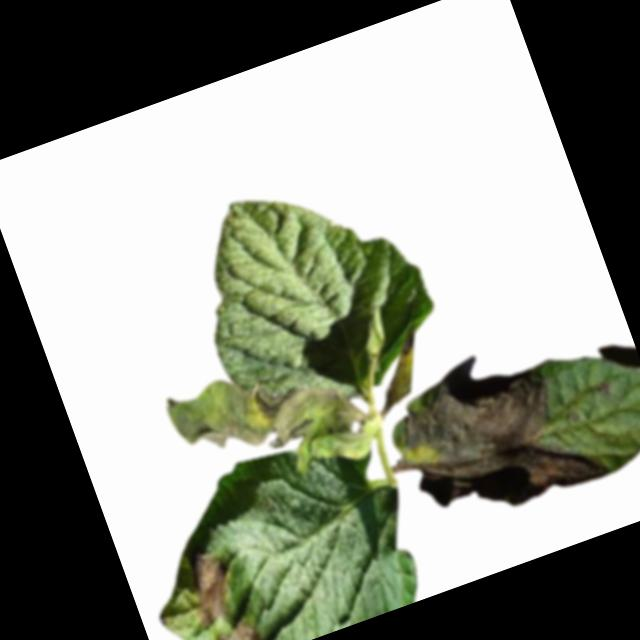Late_blight: (380, 325, 610, 537), (159, 337, 379, 517), (173, 543, 242, 632), (212, 613, 270, 640), (592, 375, 614, 397)
